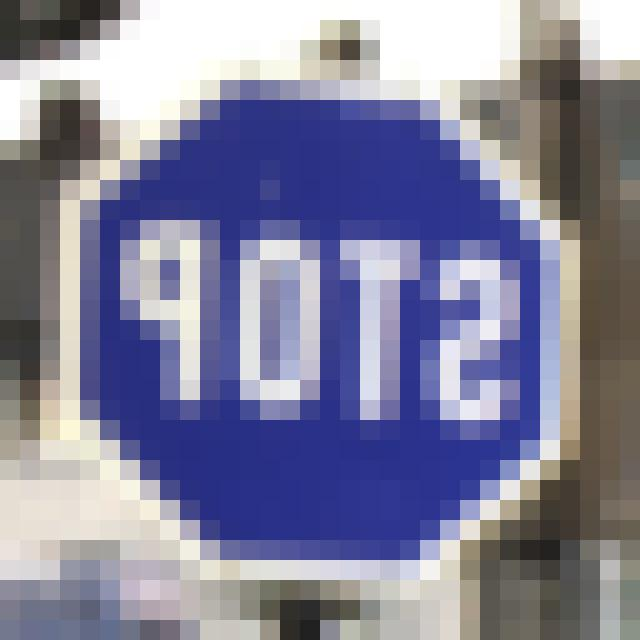STOP: (38, 76, 588, 582)
